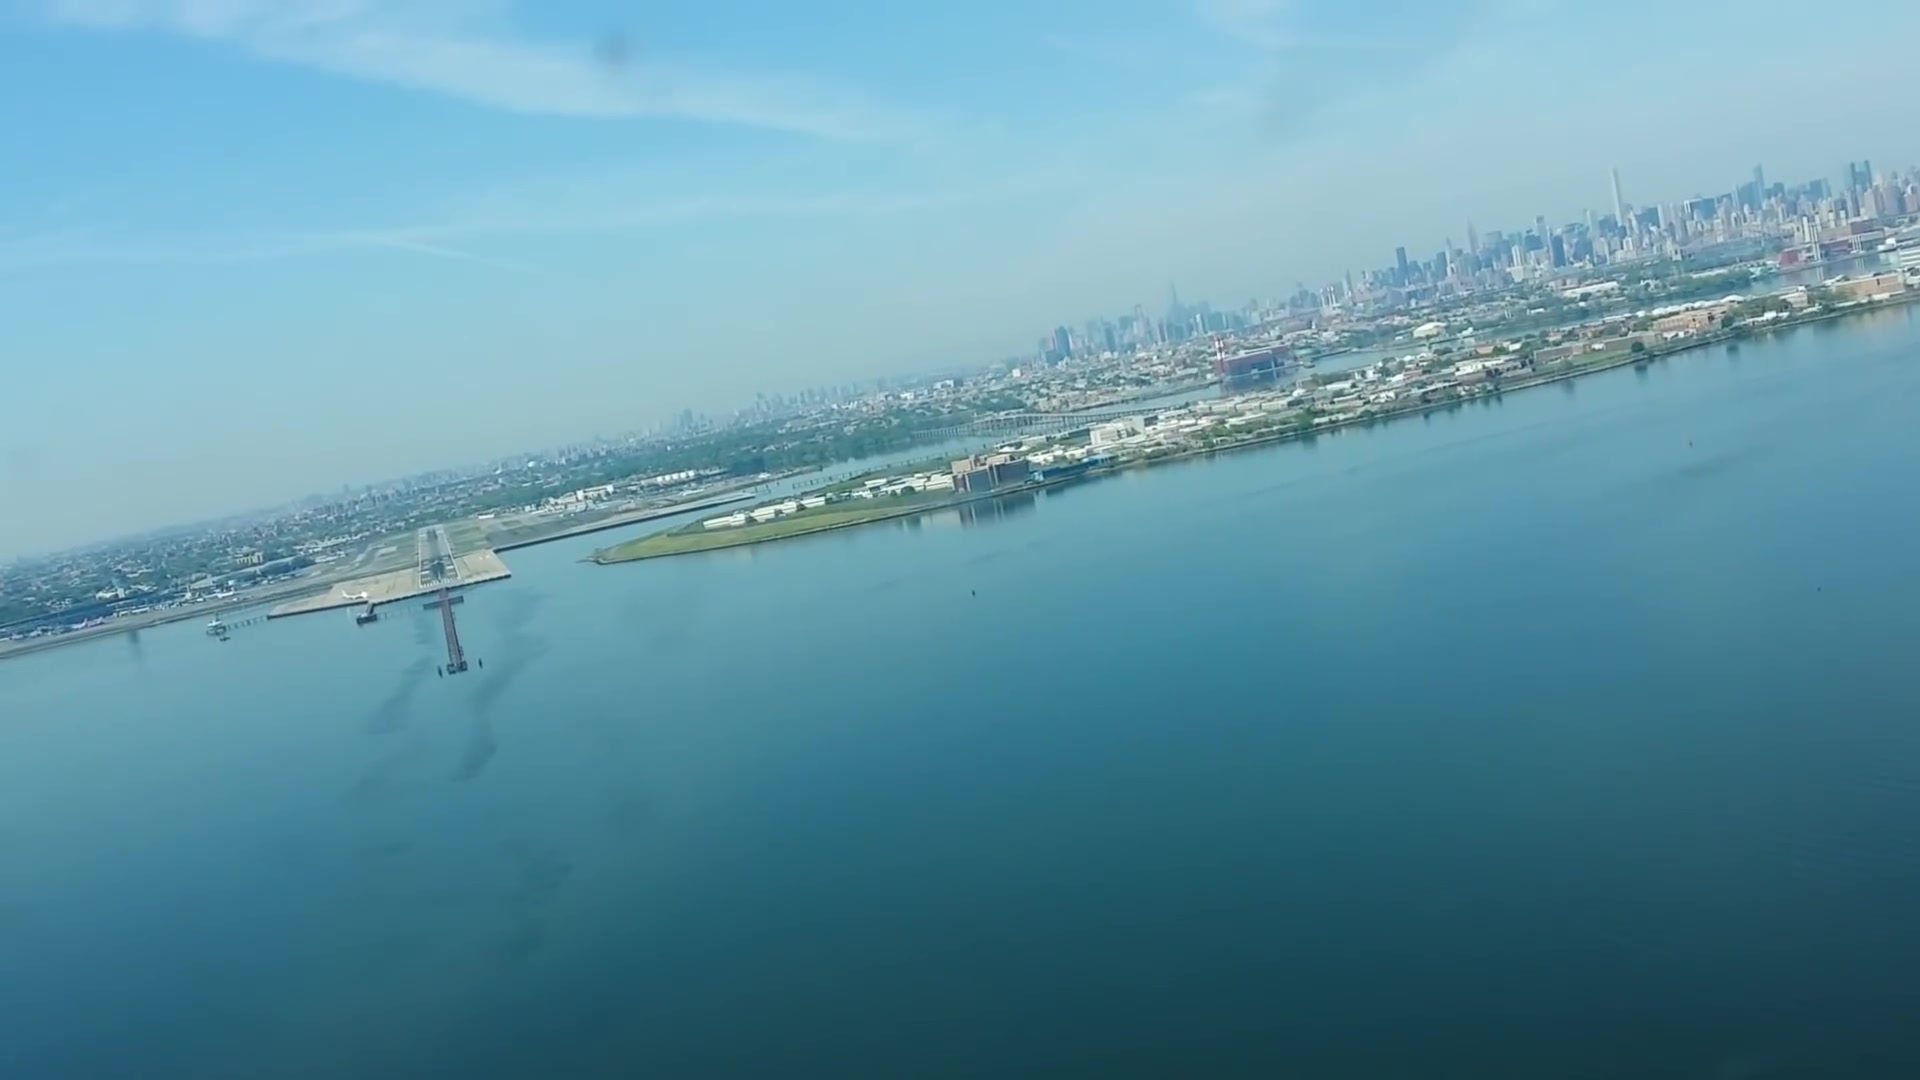entrance: (419, 578, 459, 587)
runway: (415, 520, 462, 589)
